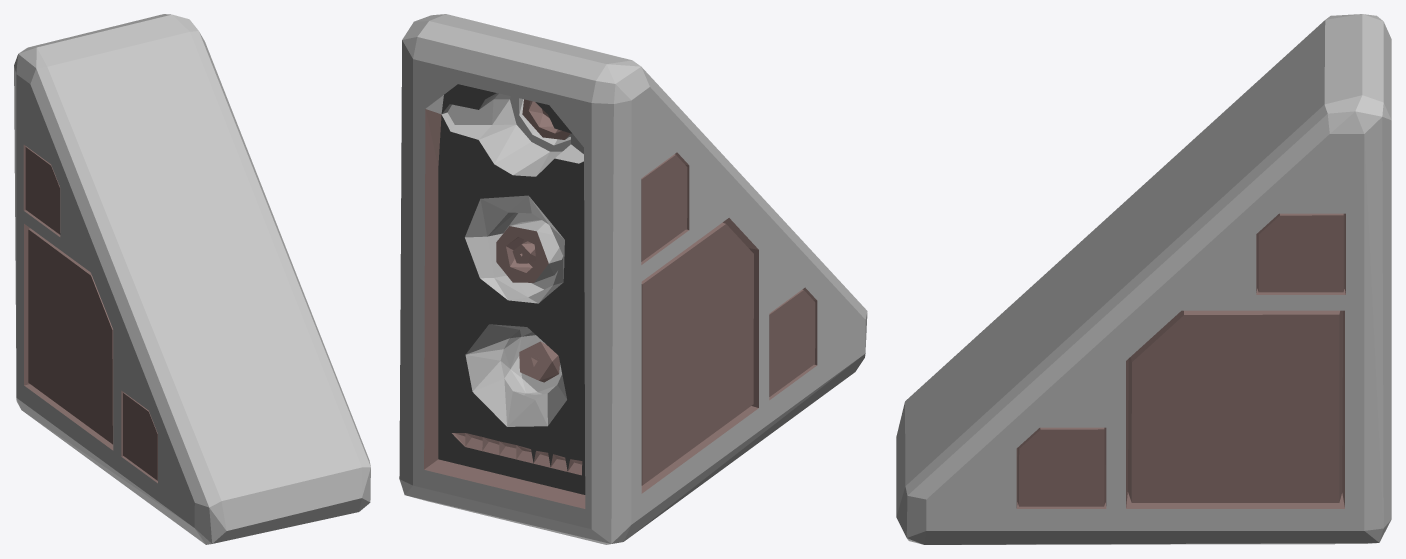
File: Stereo1.fbx
3 views of the same model, side by side, from view 1: azimuth 30°, elevation 25°; view 2: azimuth 150°, elevation 25°; view 3: azimuth 270°, elevation 25° (orthographic). The views are drawn at different scales.
Parts seen in each view (by area): view 1: Stereo 1; view 2: Stereo 1; view 3: Stereo 1.
Boxes of the visible parts, <box> form: Stereo 1: <box>14,14,370,544</box>; Stereo 1: <box>399,14,867,544</box>; Stereo 1: <box>896,14,1391,544</box>.
Bounding box in the file's own units: 100 × 200 × 200.
